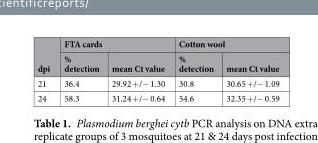table: (36, 37, 278, 103)
table column: (104, 37, 171, 103), (219, 37, 278, 103), (56, 37, 104, 103), (171, 37, 219, 103), (36, 37, 56, 103)
table column header: (36, 37, 278, 75)
table row: (36, 50, 278, 75), (36, 75, 278, 90), (36, 37, 278, 50), (36, 90, 278, 103)
table spanning cell: (56, 37, 171, 50), (171, 37, 278, 50), (36, 37, 56, 75)
